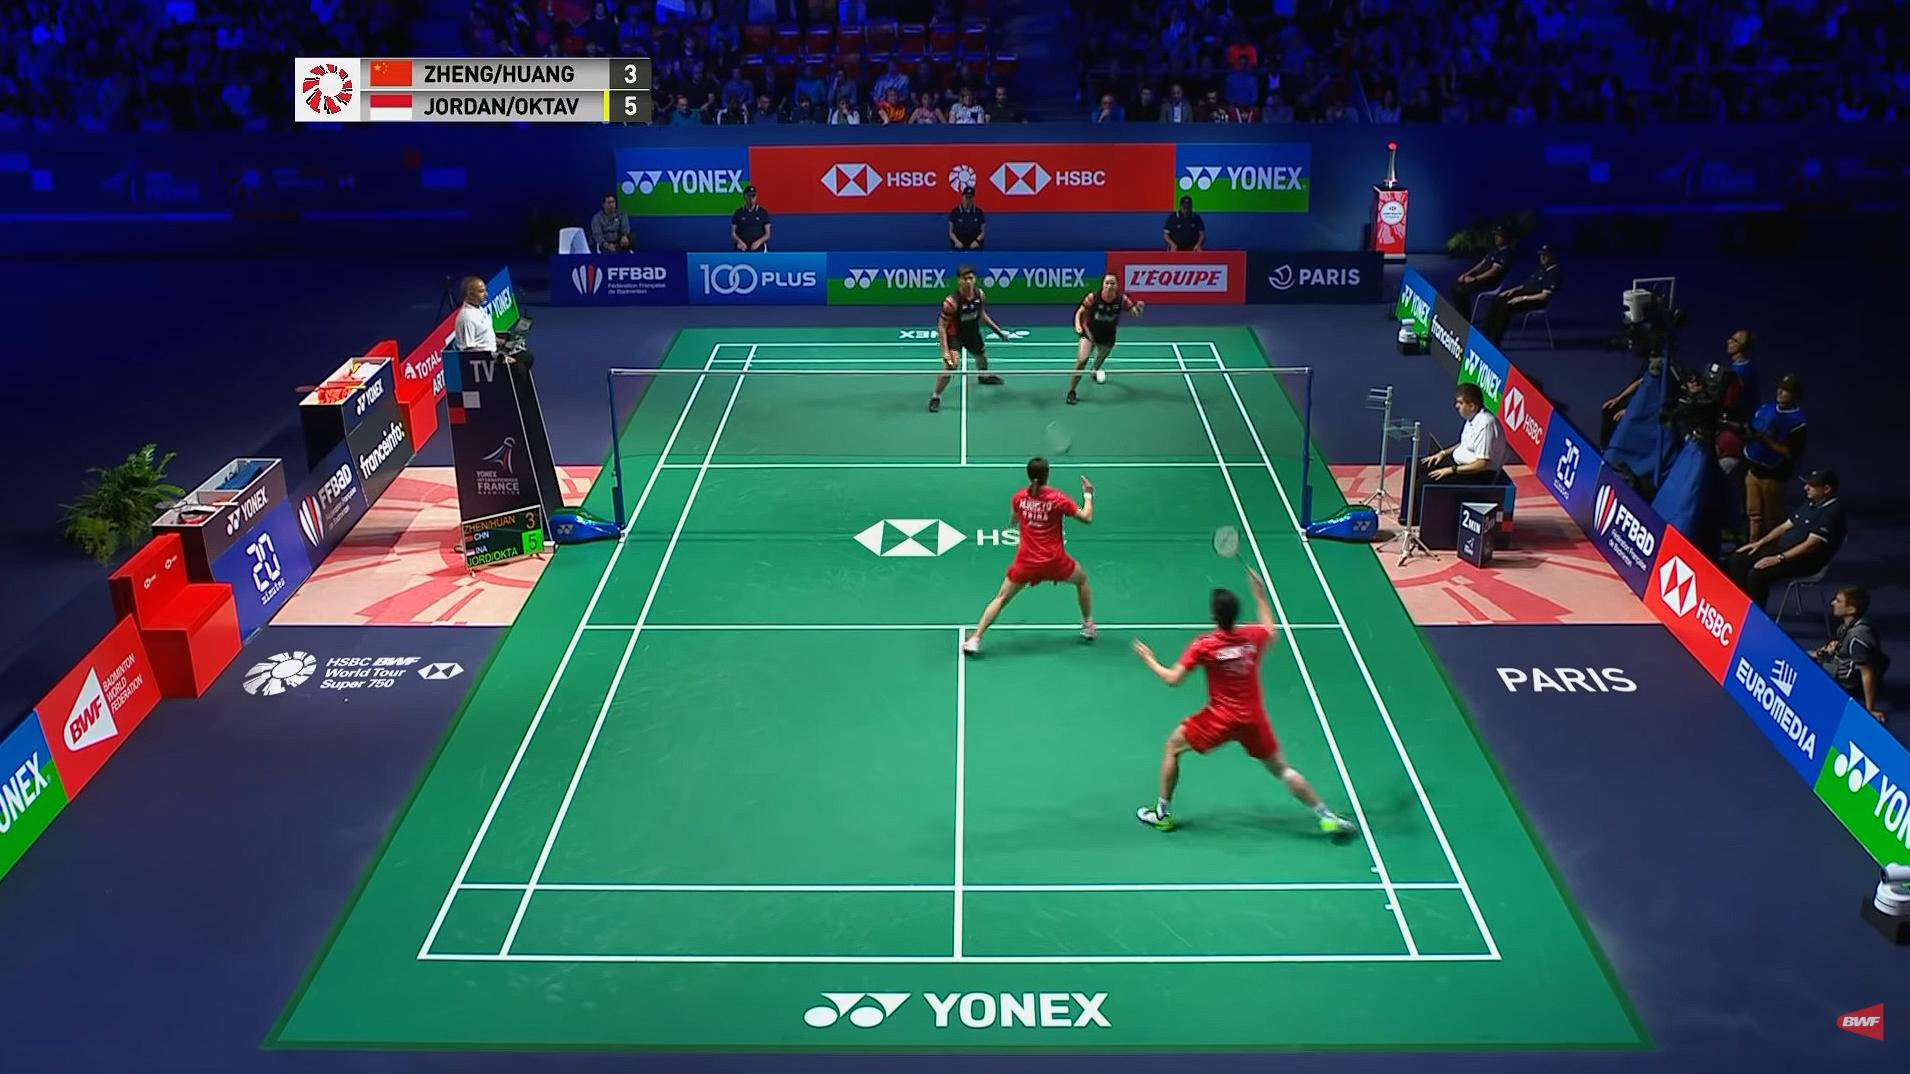racket: (1215, 519, 1246, 561)
